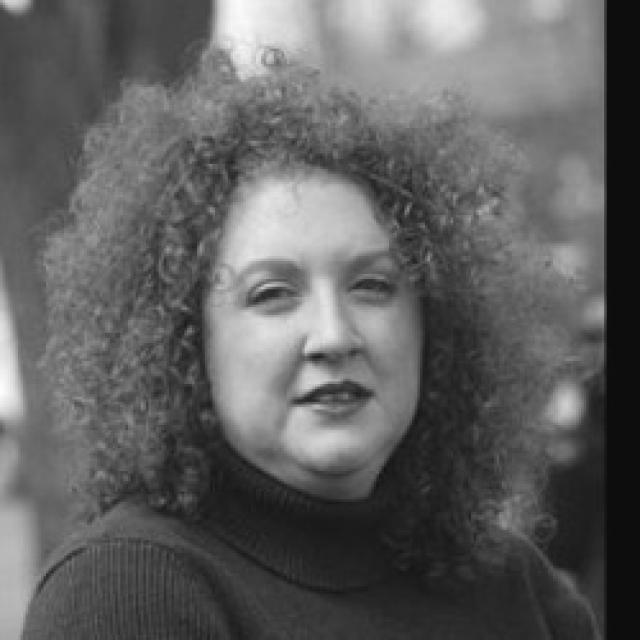real: (138, 106, 459, 502), (227, 254, 395, 313)
